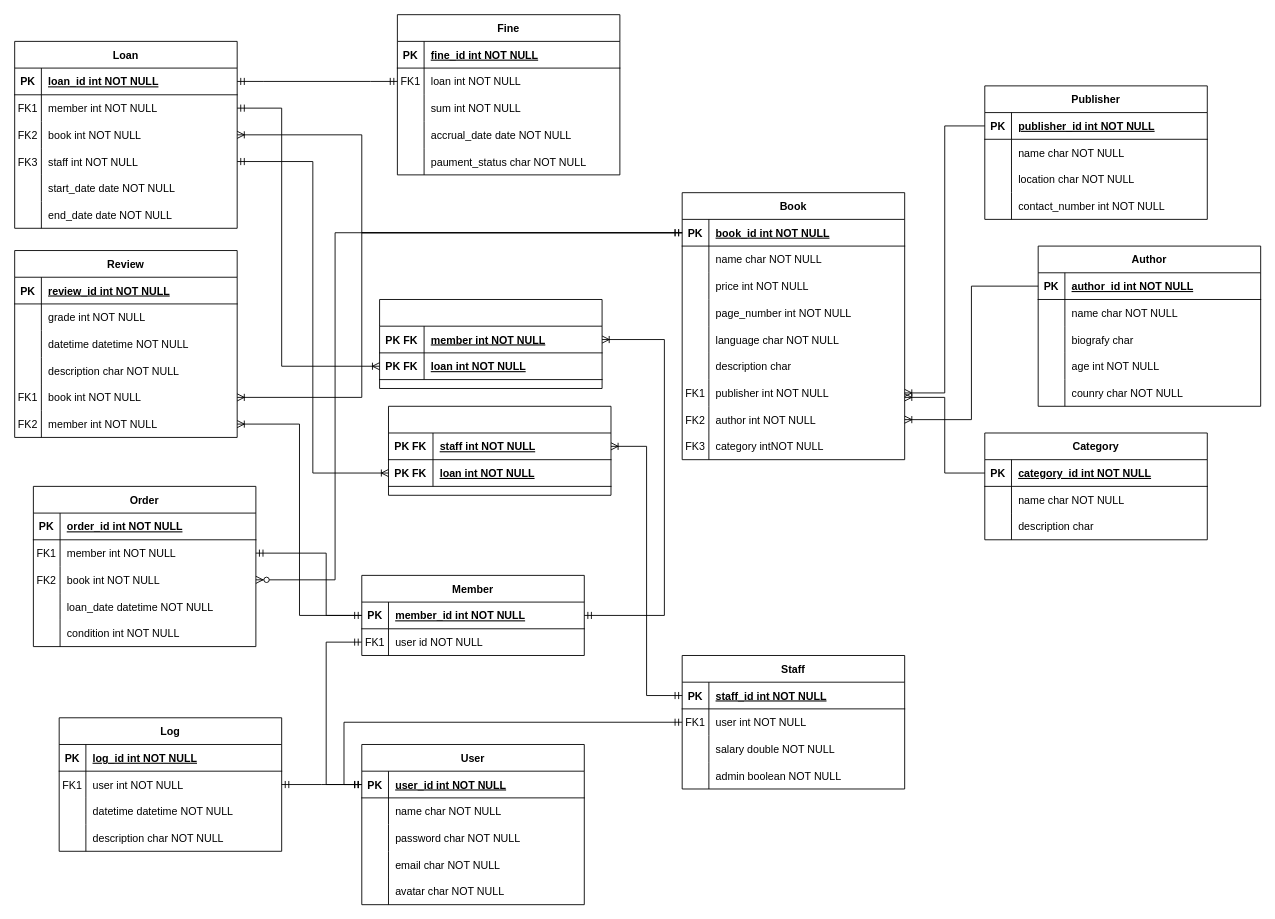
Image size: 1275x919. Some labels were removed from this diagram. Each missing label, with the box of its shape:
Member_loan: (379, 299, 602, 388)
Staff_loan: (388, 405, 611, 495)
